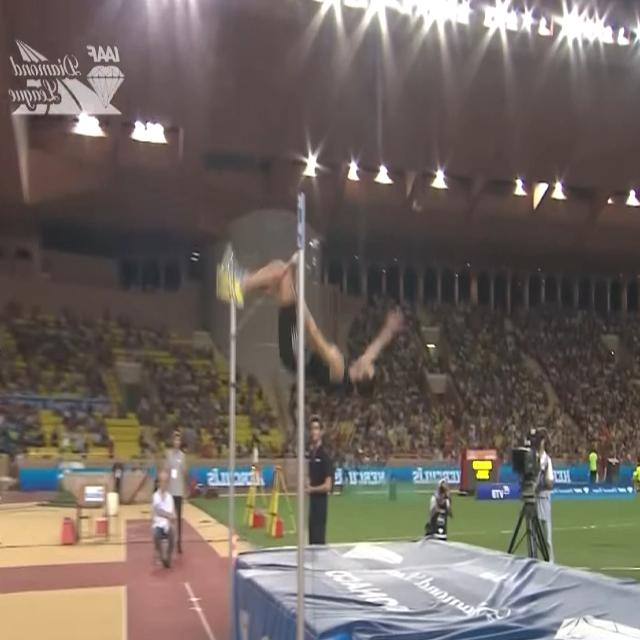land: (217, 244, 406, 397)
